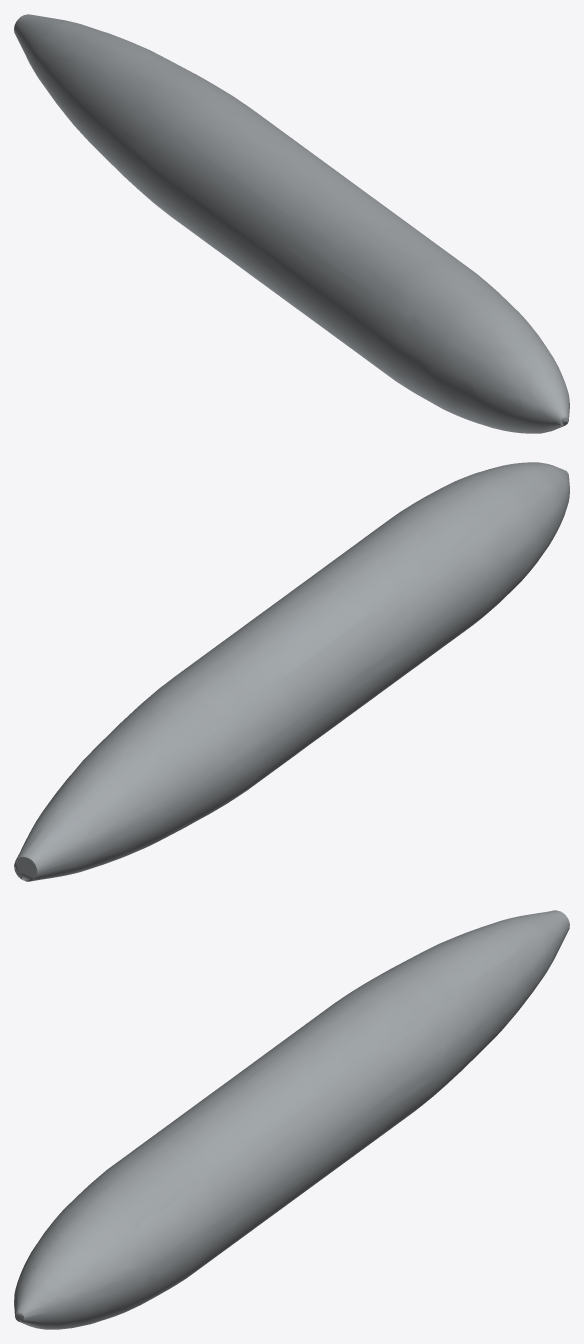
File: tank610gal.glb
3 views of the same model, one above another, from view 1: azimuth 30°, elevation 25°; view 2: azimuth 150°, elevation 25°; view 3: azimuth 330°, elevation 25° (orthographic).
Parts seen in each view (by area): view 1: airframe; view 2: airframe; view 3: airframe.
Boxes of the visible parts, x1,y1,x2,y2 form: airframe: [14, 14, 569, 433]; airframe: [14, 462, 569, 881]; airframe: [14, 910, 569, 1329].
Size of the model in its own units: 0.8147 by 0.8155 by 6.52.
Materials: 1 (1 with a texture image).
